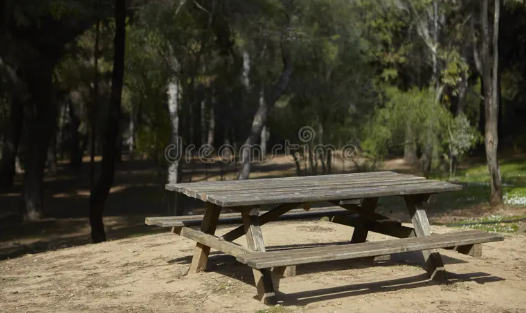obstacle: (152, 163, 503, 301)
